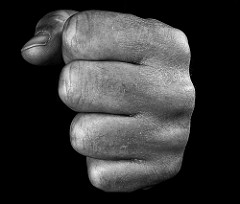fist: (44, 13, 191, 188)
